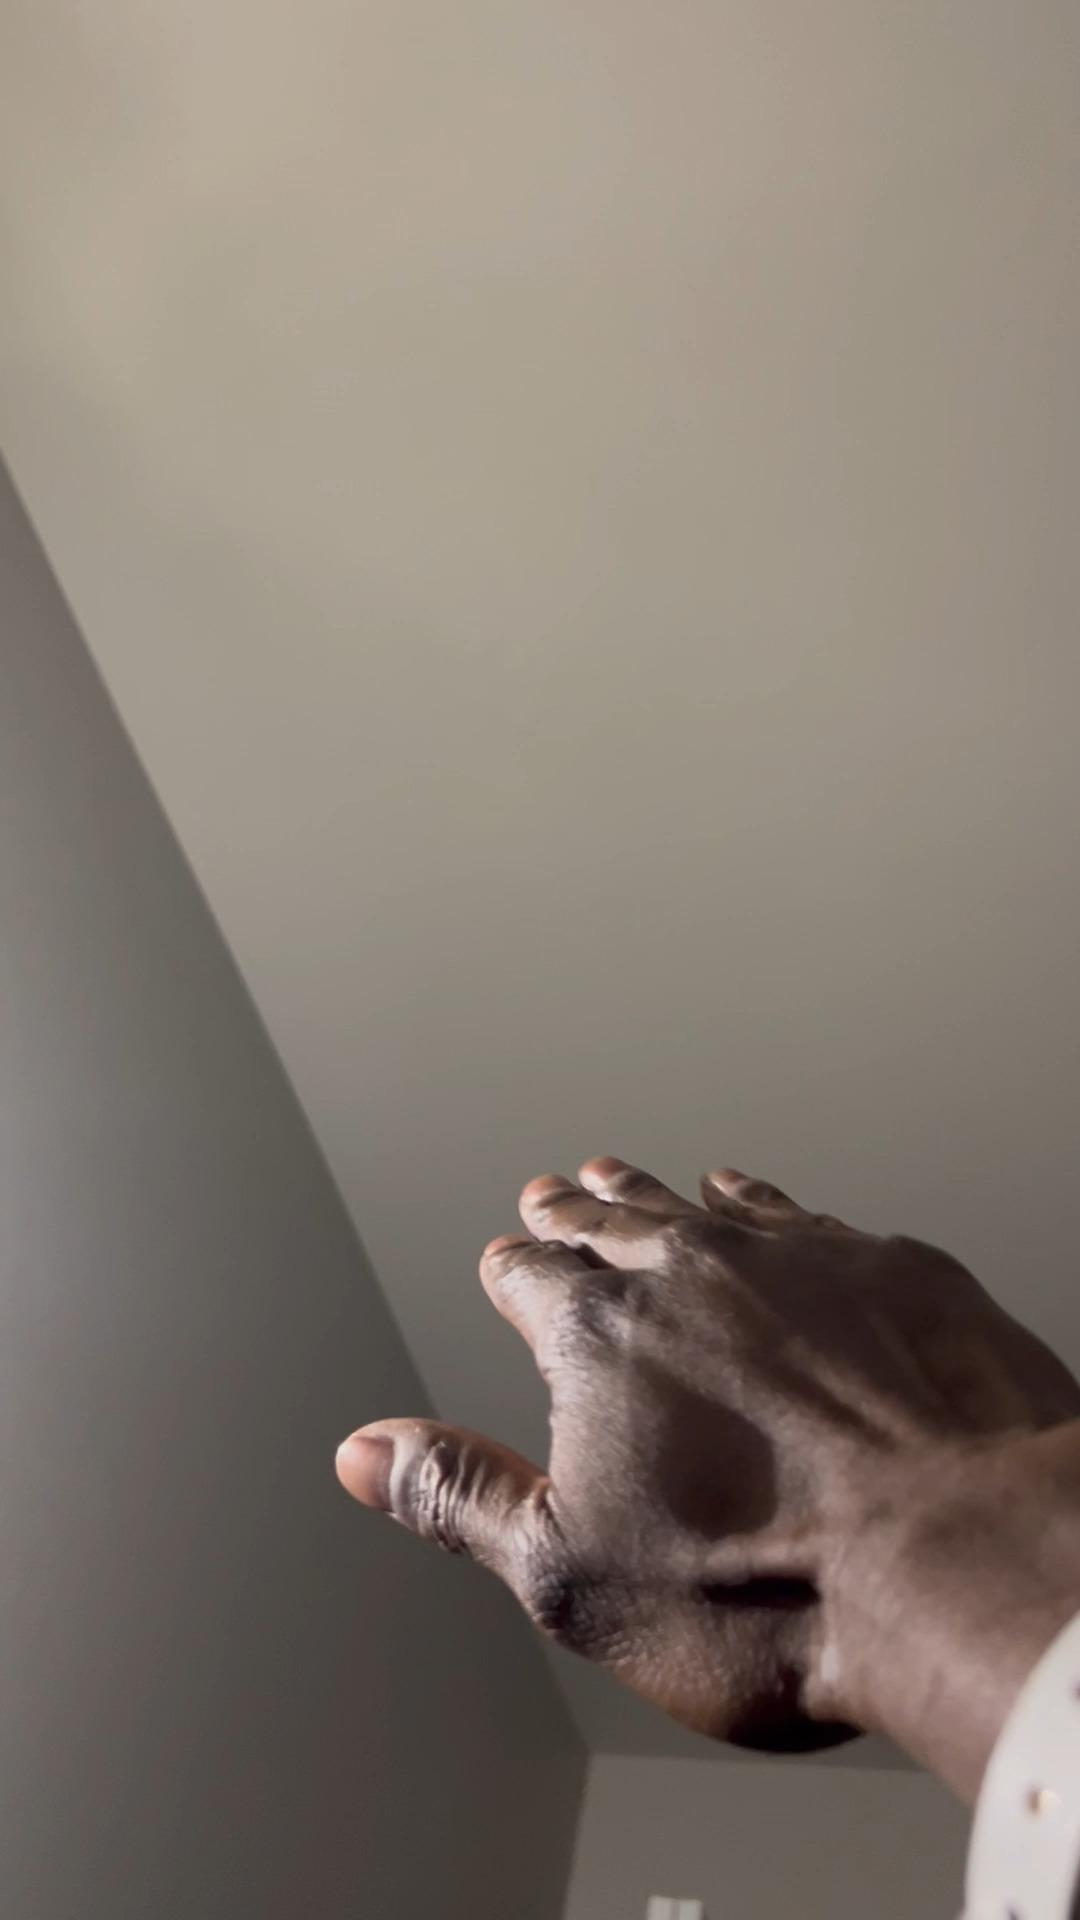Paper: (330, 1154, 1072, 1749)
